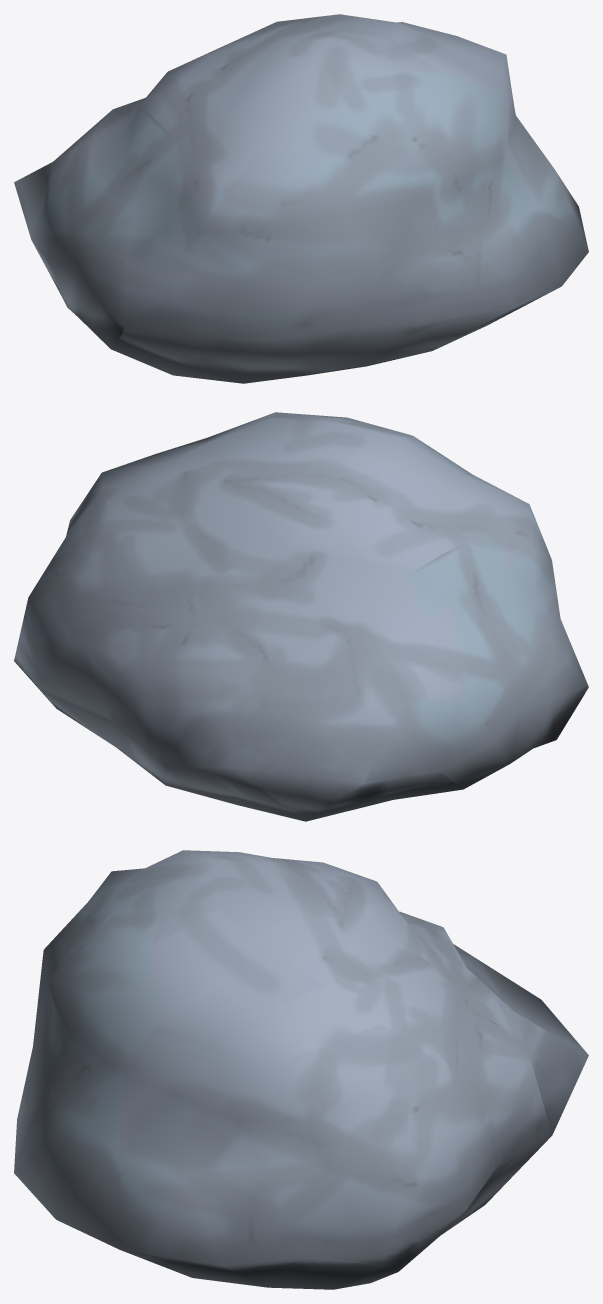
The model's file is rock.fbx.
The picture shows the model from 3 angles, top to bottom: view 1: azimuth 30°, elevation 25°; view 2: azimuth 150°, elevation 25°; view 3: azimuth 270°, elevation 25°; orthographic projection. The views are drawn at different scales.
Visible parts, largest first — view 1: Icosphere; view 2: Icosphere; view 3: Icosphere.
Part boxes in pixels (x1=…): Icosphere: x1=14, y1=14, x2=588, y2=383; Icosphere: x1=14, y1=412, x2=588, y2=821; Icosphere: x1=14, y1=850, x2=588, y2=1289.
Bounding box in the file's own units: 326 × 214 × 297.
